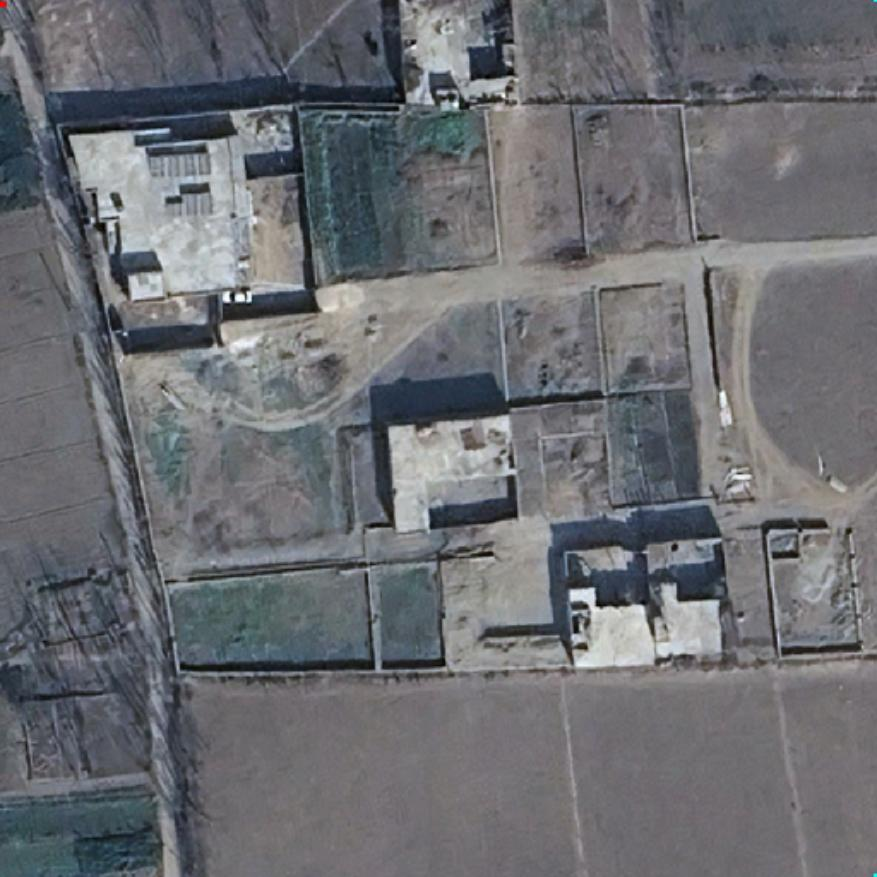Solarpanel: (144, 149, 212, 181), (163, 188, 215, 220)
